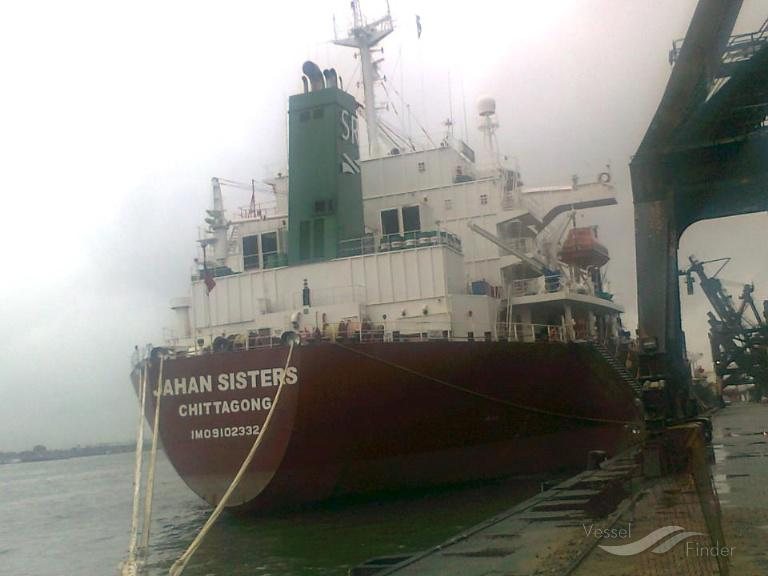OCR: (152, 369, 306, 448)
